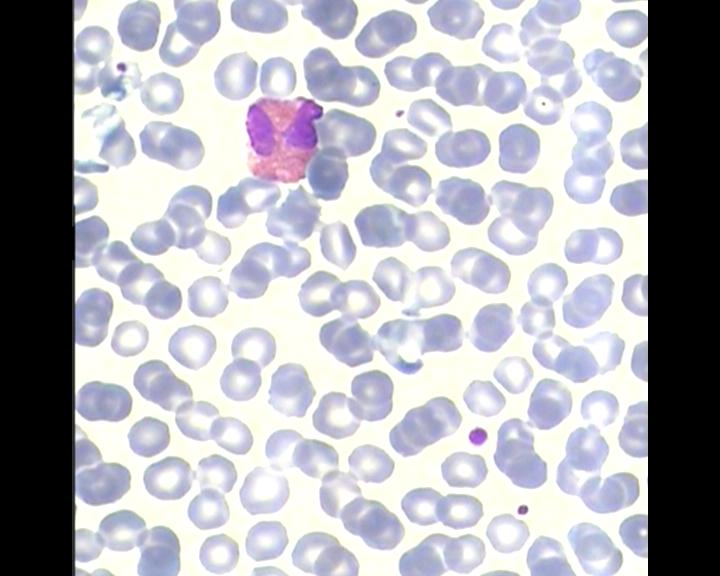eosi: (243, 93, 324, 188)
